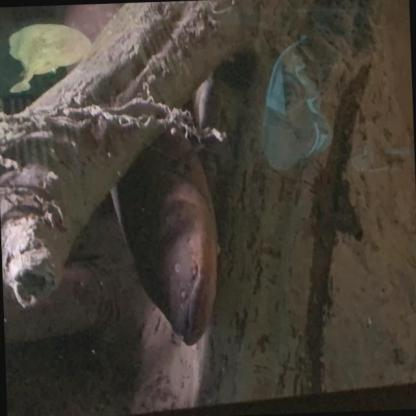fish: (106, 114, 226, 350)
